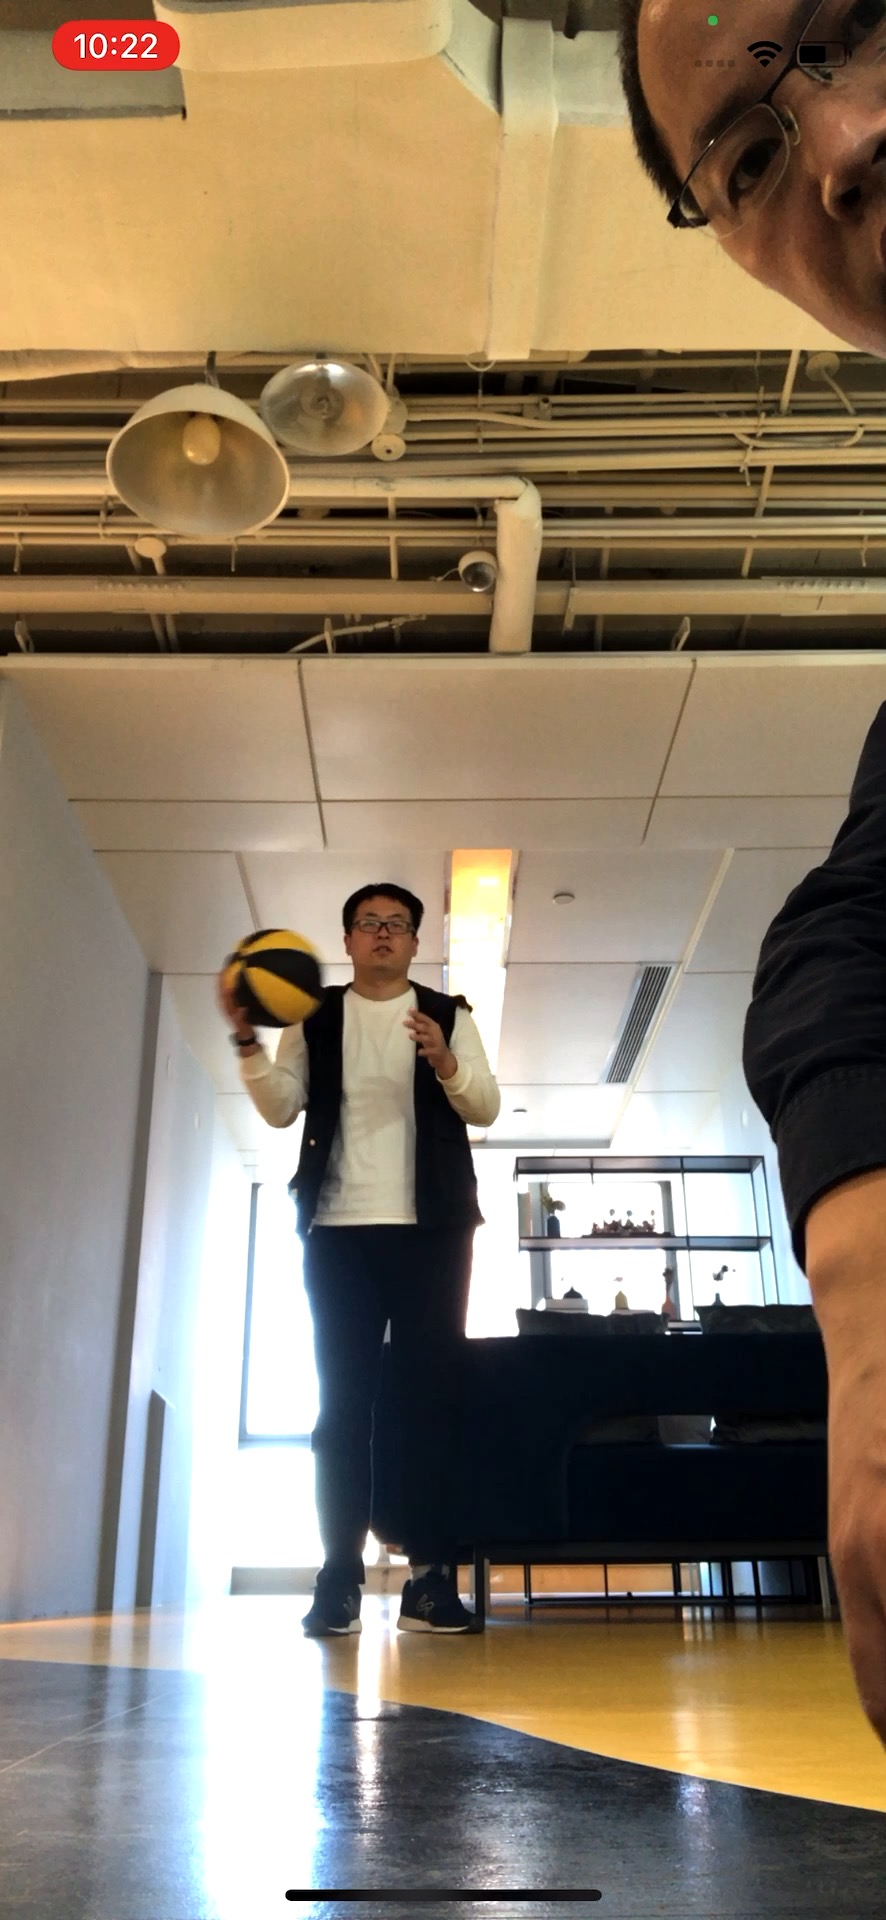ball: (223, 924, 327, 1025)
